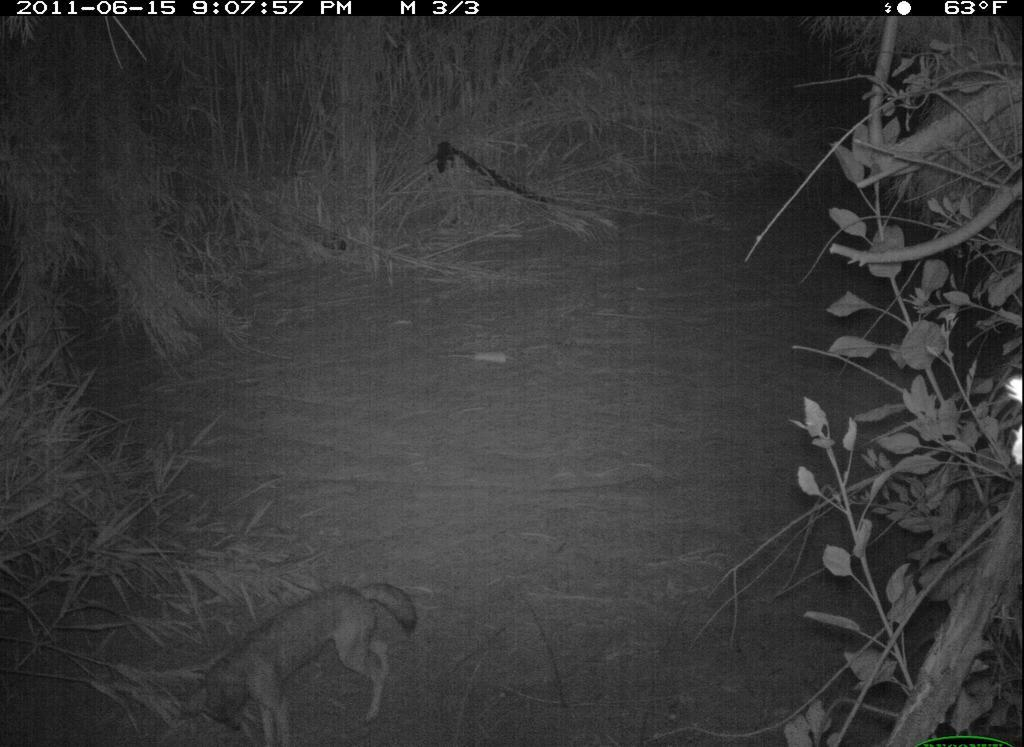coyote: (184, 583, 442, 738)
